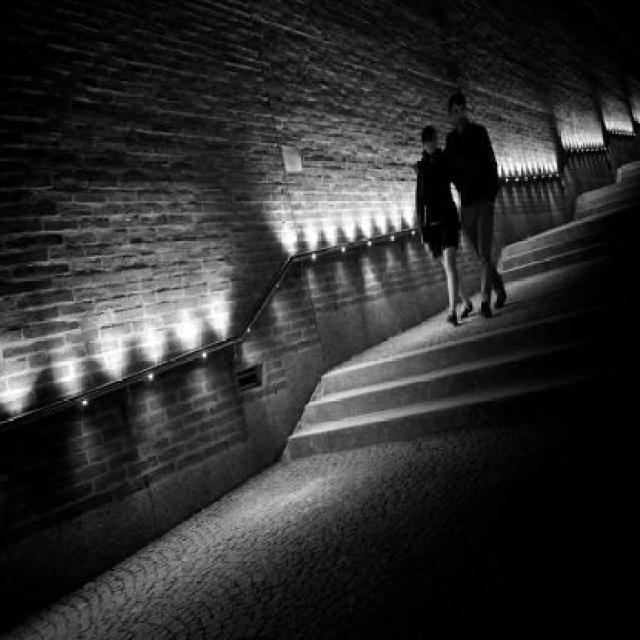stair: (286, 296, 640, 462), (491, 160, 640, 289)
